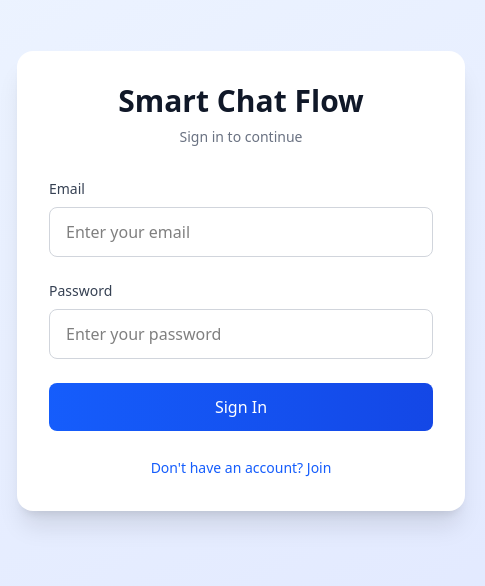
Scenario: Auth Component › Login Mode › shows validation error for short password
Step 1. Type "test@example.com" into the field labelled "Email" → (241, 232), box [49,207,433,257]
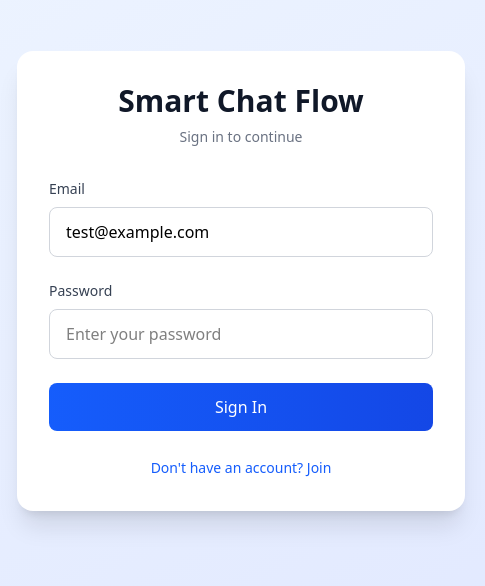
Step 2. Type "123" into the password field labelled "Password" → (241, 334), box [49,309,433,359]
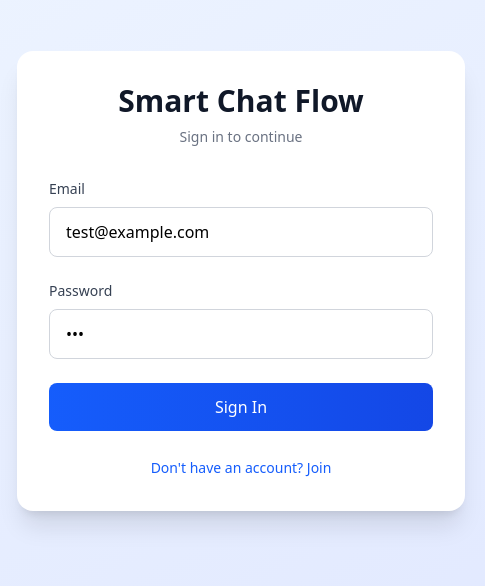
Step 3. Click the button "Sign In" → (241, 407), box [49,383,433,431]
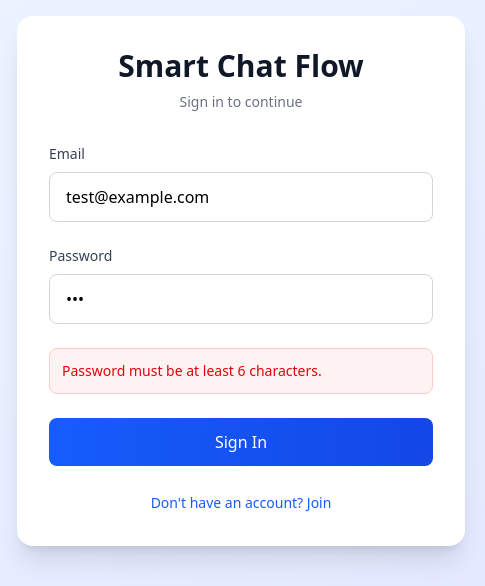
Now the text "Password must be at least 6 characters." is shown, box [62,361,322,380]
